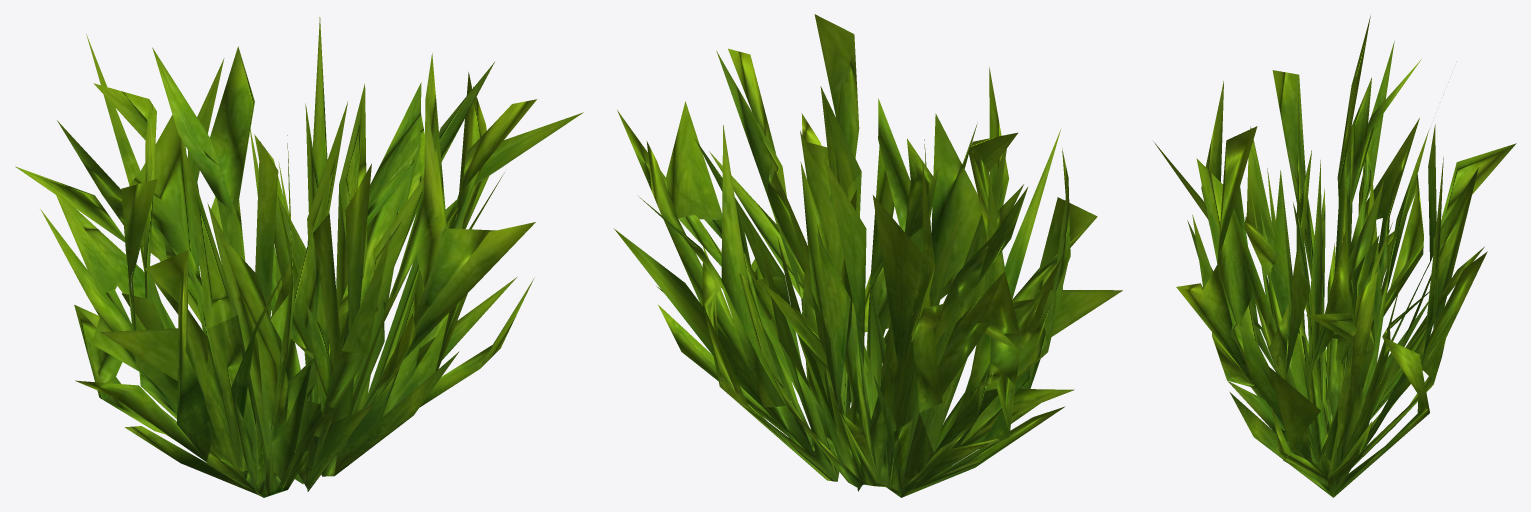
Rendered from SeaGrass.obj.
3 views of the same model, side by side, from view 1: azimuth 30°, elevation 25°; view 2: azimuth 150°, elevation 25°; view 3: azimuth 270°, elevation 25° (orthographic). The views are drawn at different scales.
Size of the model in its own units: 1 by 0.8458 by 0.6942.
1 material, 1 textured.
